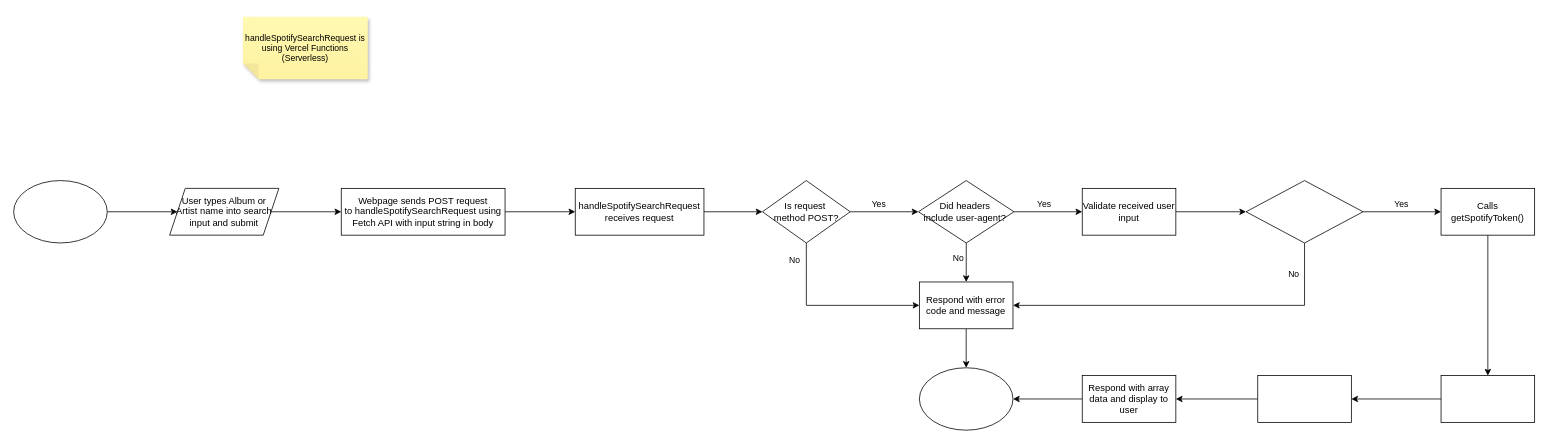
Image size: 1548x444. Some labels were removed from this diagram. Each missing label, with the centre of its shape:
Does user input meet validation criteria?: (x=1304, y=211)
End: (x=966, y=398)
Fetch search results from Spotify API: (x=1487, y=398)
Filter received results to a new array: (x=1304, y=398)
Start: (x=60, y=211)
